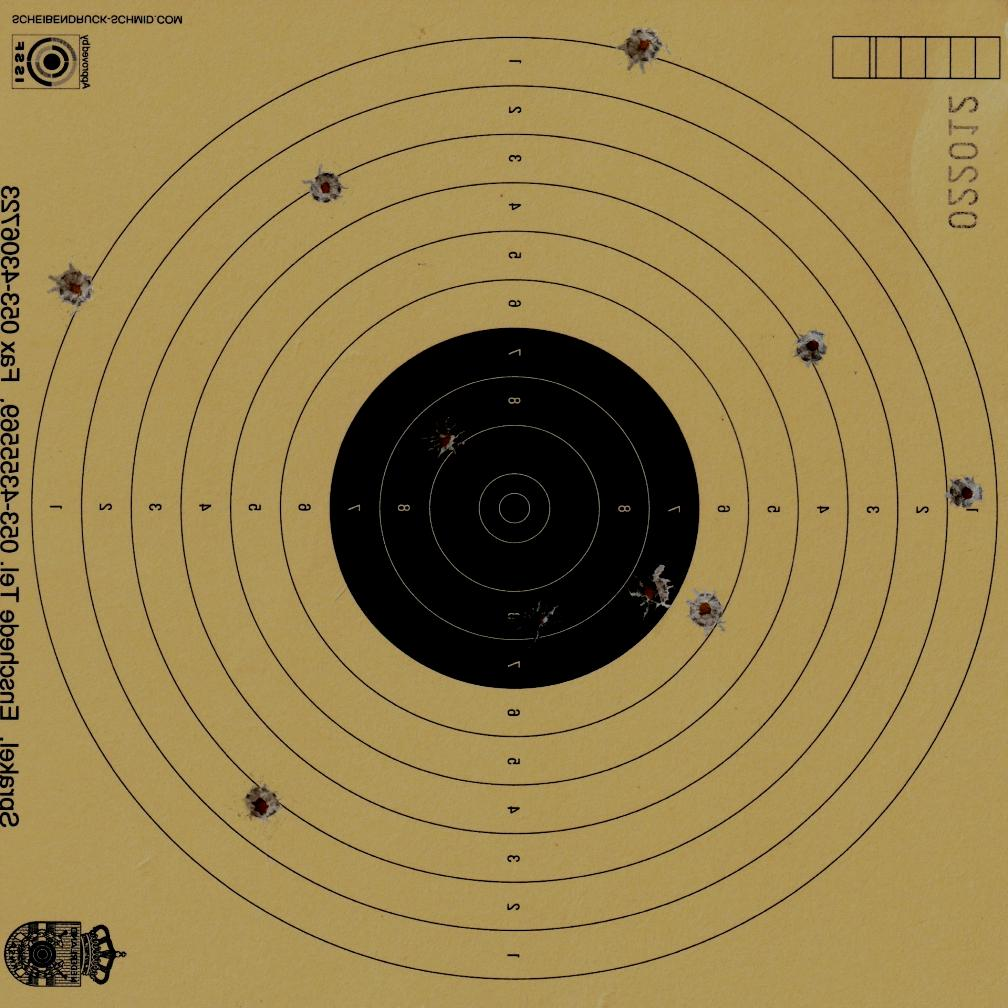1: (42, 259, 102, 315), (614, 20, 669, 76)
2: (944, 470, 984, 512)
3: (241, 778, 286, 824), (303, 164, 349, 208)
4: (790, 326, 832, 369)
6: (683, 585, 728, 638)
7: (622, 563, 675, 623)
8: (508, 593, 563, 651)
9: (412, 410, 472, 463)
Target: (24, 31, 1000, 985)
black_contour: (328, 326, 700, 690)
